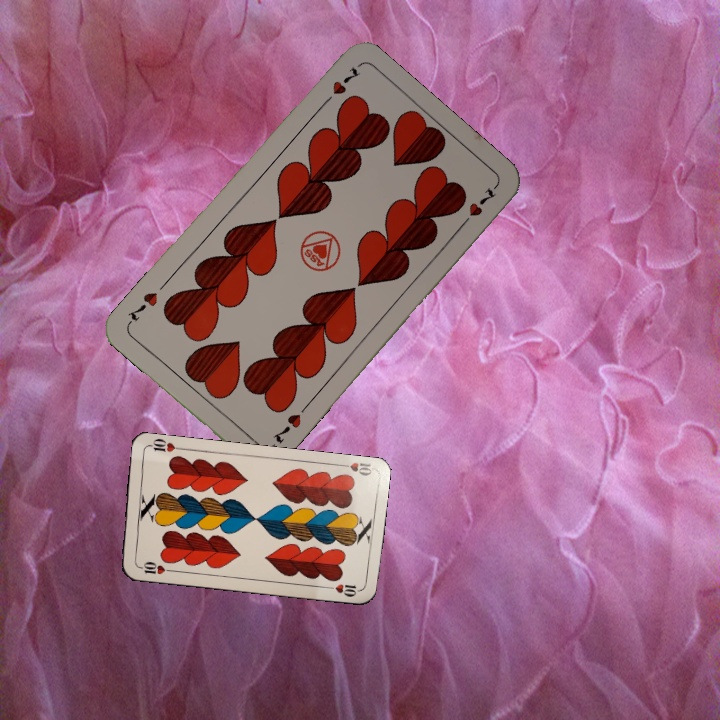H10: (334, 458, 375, 478), (134, 557, 174, 577)
H7: (317, 62, 362, 110), (268, 409, 304, 446)
